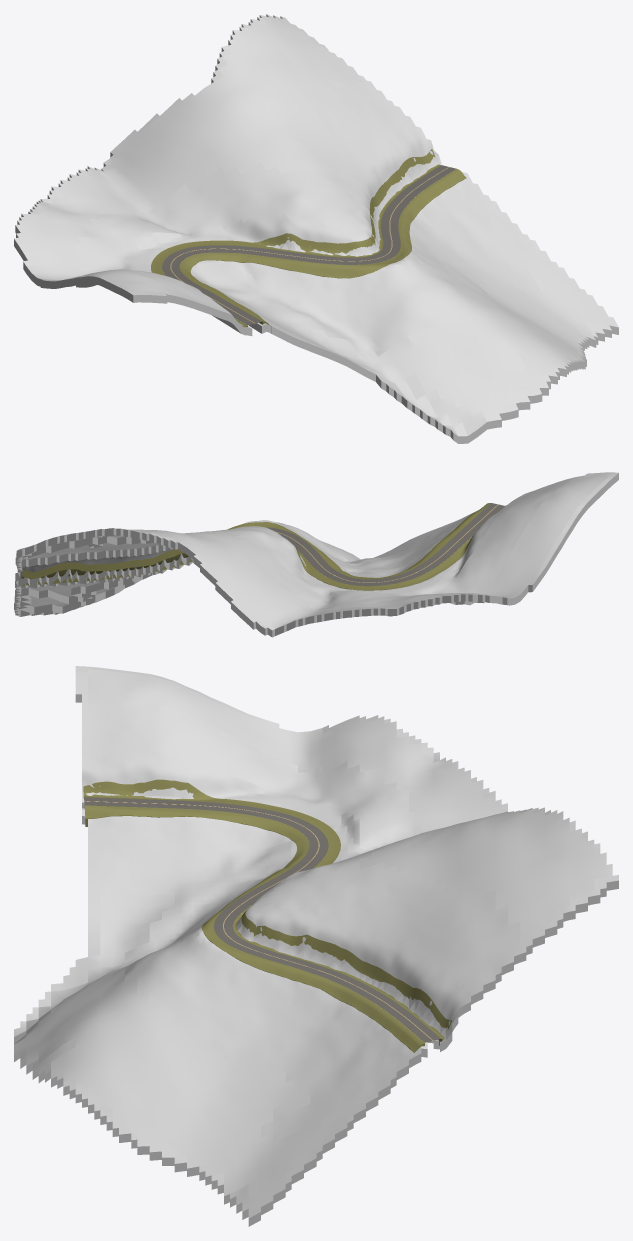
File: conz_187.glb
3 renders of one model, top to bottom at view 1: azimuth 30°, elevation 25°; view 2: azimuth 150°, elevation 25°; view 3: azimuth 270°, elevation 25°, orthographic. The views are drawn at different scales.
Visible parts, largest first — view 1: terrain187, road187, verge187L, verge187R; view 2: terrain187, verge187R, road187, verge187L, paint_yellow187; view 3: terrain187, road187, verge187L, verge187R.
Boxes of the visible parts, x1,y1,x2,y2 form: terrain187: [14, 14, 618, 443]; road187: [162, 165, 456, 325]; verge187L: [179, 169, 466, 333]; verge187R: [151, 149, 441, 330]; terrain187: [14, 472, 618, 637]; verge187R: [22, 535, 473, 590]; road187: [267, 503, 504, 586]; verge187L: [227, 503, 490, 579]; paint_yellow187: [276, 504, 498, 582]; terrain187: [14, 666, 618, 1226]; road187: [84, 797, 441, 1042]; verge187L: [84, 805, 424, 1052]; verge187R: [83, 779, 452, 1045].
Bounding box in the file's own units: 232 × 102 × 196.
